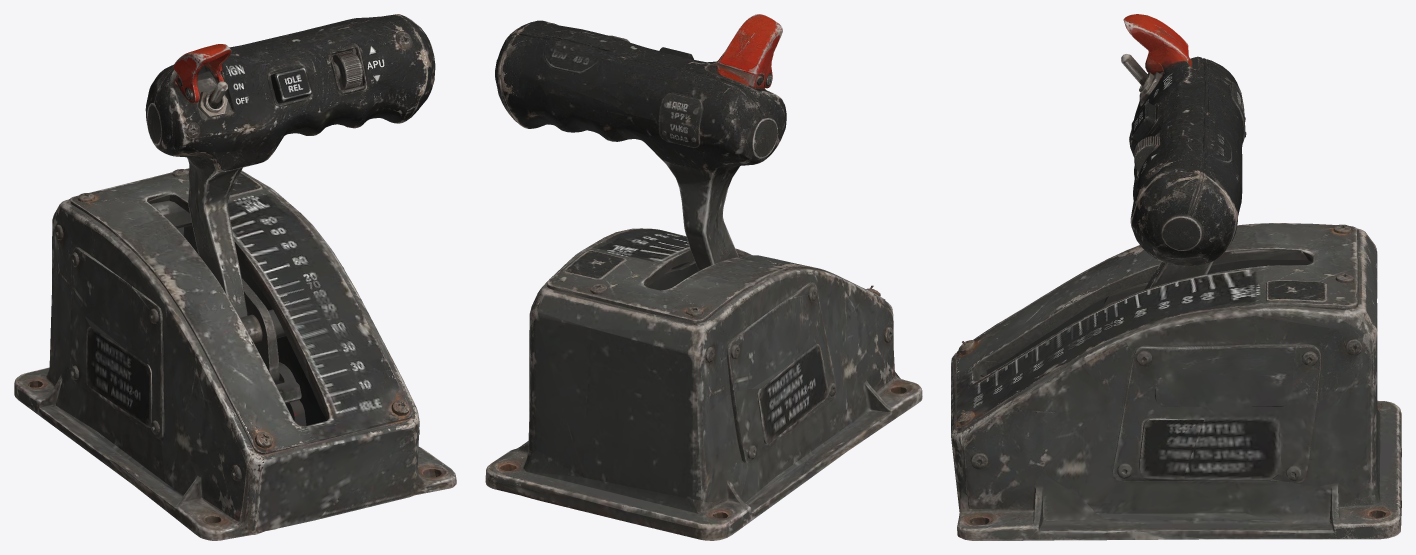
The model's file is throttle.glb.
3 renders of one model, left to right at view 1: azimuth 30°, elevation 25°; view 2: azimuth 150°, elevation 25°; view 3: azimuth 270°, elevation 25°, orthographic. The views are drawn at different scales.
Visible parts, largest first — view 1: Mesh_0; view 2: Mesh_0; view 3: Mesh_0.
Part boxes in pixels (x1,y1,x2,y2): Mesh_0: [14, 14, 456, 540]; Mesh_0: [485, 14, 922, 540]; Mesh_0: [951, 14, 1401, 540].
Bounding box in the file's own units: 1.54 × 1.9 × 1.77.
Materials: 1 (1 with a texture image).
